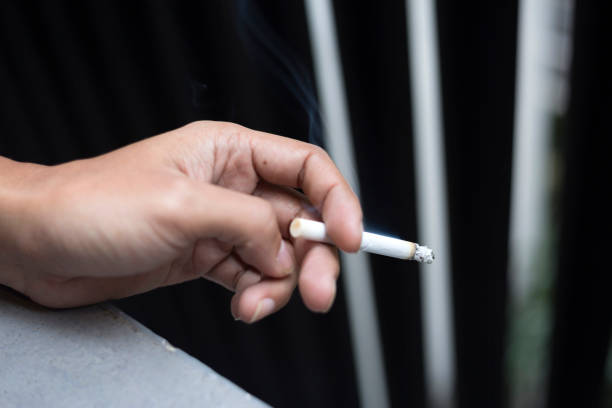cigarette: (288, 217, 434, 265)
